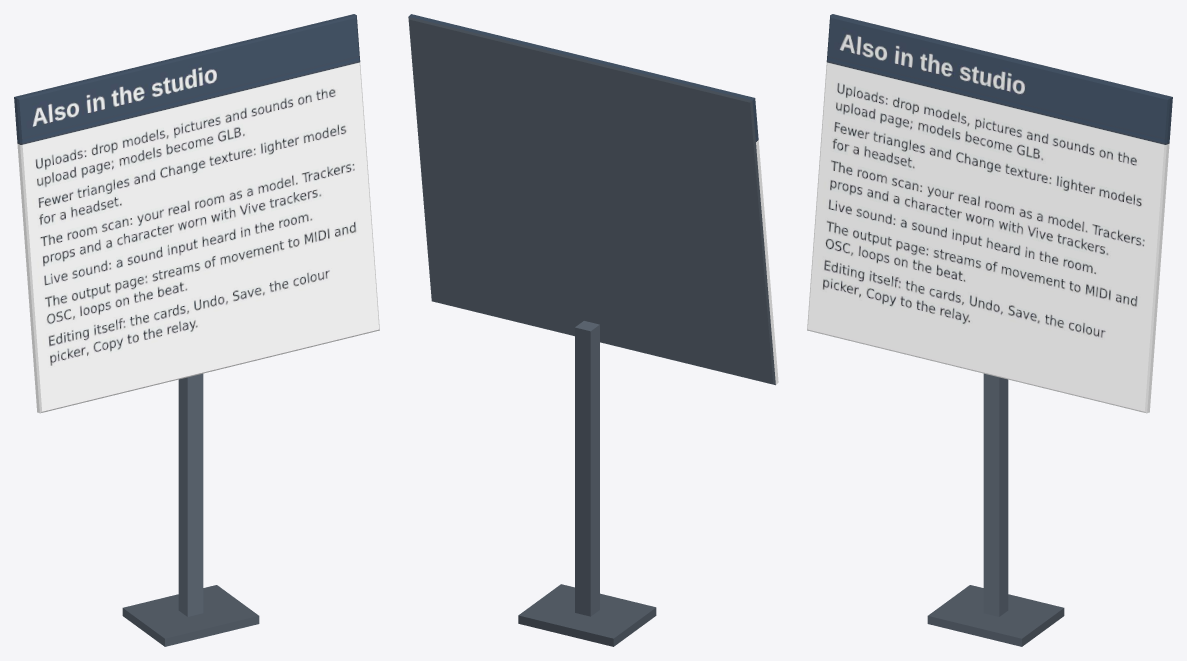
Rendered from 00-also.glb.
3 views of the same model, side by side, from view 1: azimuth 30°, elevation 25°; view 2: azimuth 150°, elevation 25°; view 3: azimuth 330°, elevation 25° (orthographic).
Parts seen in each view (by area): view 1: board; view 2: board; view 3: board.
Boxes of the visible parts, x1,y1,x2,y2 form: board: [14, 14, 379, 646]; board: [408, 14, 778, 646]; board: [807, 14, 1172, 646].
Bounding box in the file's own units: 1.3 × 2.05 × 0.28.
1 material, 1 textured.
